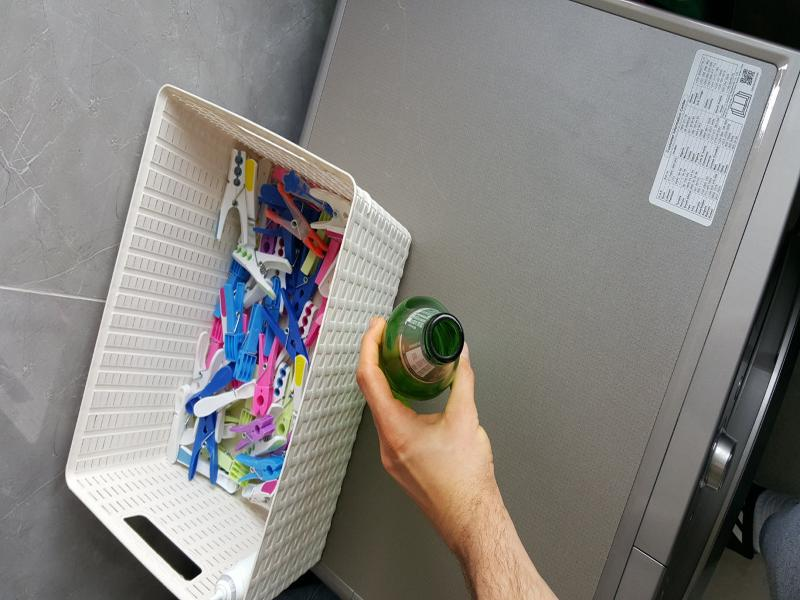Beer: (379, 295, 465, 402)
